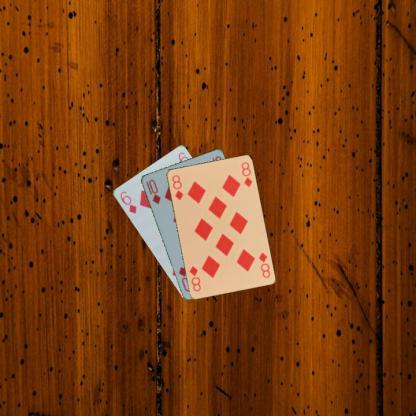10d: (143, 177, 162, 205)
6d: (118, 188, 138, 215)
8d: (256, 250, 271, 279), (170, 172, 184, 201)
